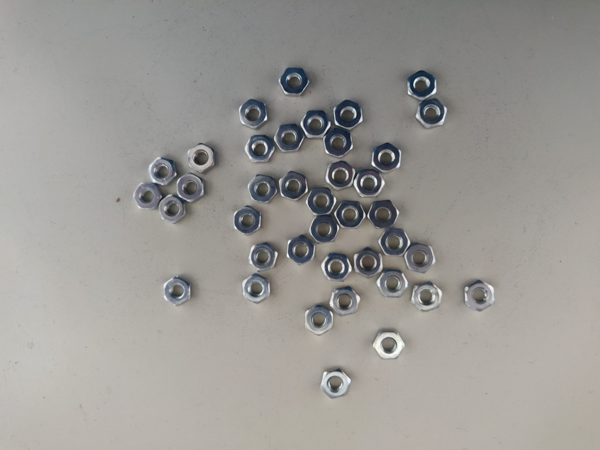nut: (377, 228, 411, 259), (406, 69, 438, 101), (238, 98, 270, 130), (464, 280, 495, 312), (417, 97, 449, 128), (355, 168, 387, 199), (185, 143, 217, 174), (320, 368, 353, 398), (325, 160, 358, 190), (406, 244, 437, 275), (374, 330, 406, 360), (303, 306, 335, 336), (329, 286, 361, 316), (321, 252, 353, 282), (352, 248, 384, 278), (376, 269, 408, 299), (368, 199, 400, 229), (322, 127, 354, 157), (300, 110, 332, 140), (333, 100, 364, 130), (372, 142, 403, 172), (281, 65, 311, 95), (412, 282, 442, 312), (158, 195, 188, 225), (132, 182, 162, 212), (147, 156, 177, 186), (174, 173, 204, 203), (242, 273, 272, 303), (233, 206, 263, 236), (249, 241, 279, 271), (287, 235, 317, 265), (275, 124, 305, 154), (279, 171, 309, 201), (306, 187, 336, 217), (310, 213, 340, 243), (162, 277, 192, 306), (248, 174, 277, 204), (245, 133, 275, 162), (337, 200, 367, 229)
